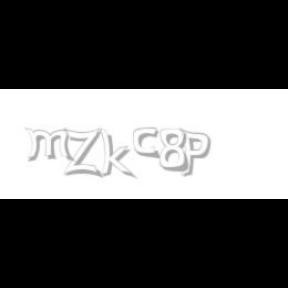8: (160, 128, 188, 172)
P: (179, 128, 211, 178)
Z: (64, 128, 100, 178)
c: (132, 128, 162, 160)
k: (98, 128, 136, 180)
m: (24, 128, 76, 162)
